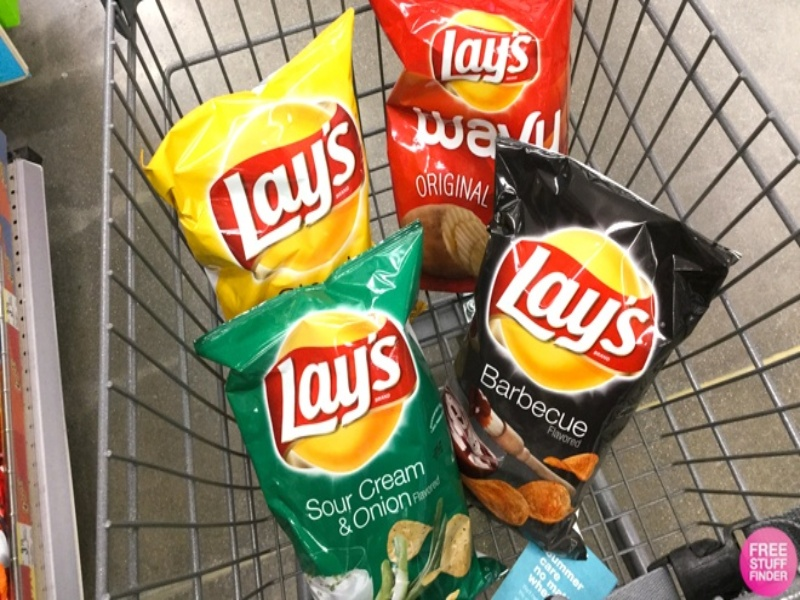lays-large: (448, 141, 743, 535), (216, 309, 500, 596), (157, 20, 364, 315), (380, 2, 569, 264)
